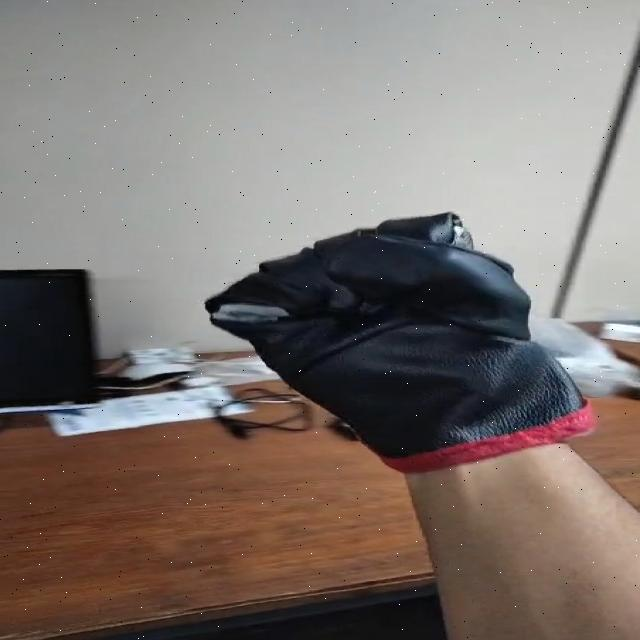Gloves: (203, 209, 594, 478)
